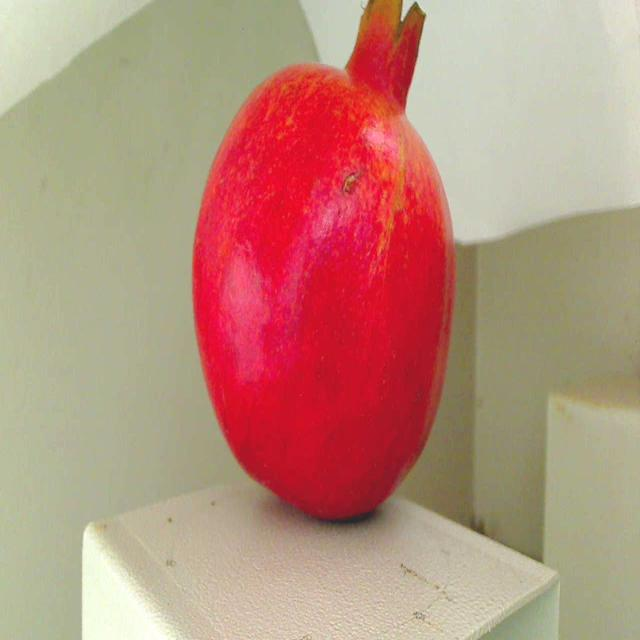pomegranate: (182, 0, 470, 532)
